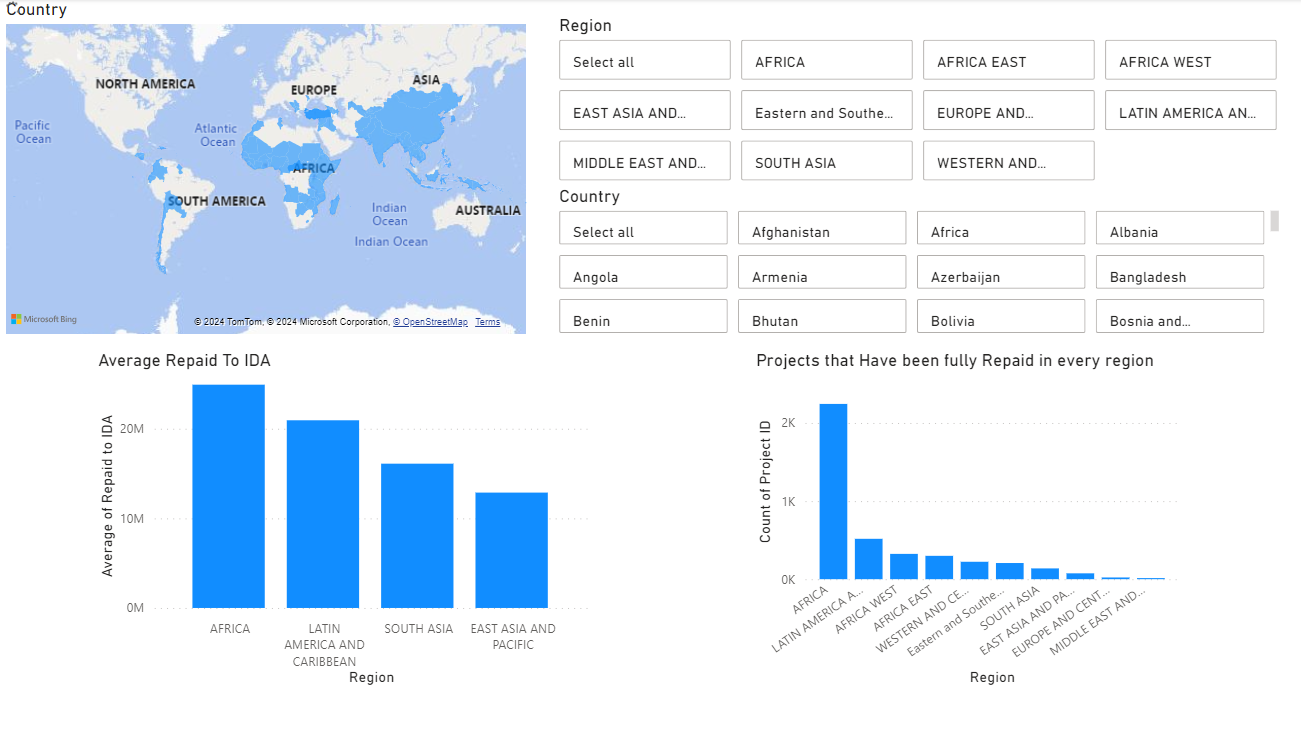

What the dashboard file says about the page in this screenshot:
{"tool":"powerbi","page":{"name":"Regional Information","canvas":[1280,720],"ordinal":1},"visuals":[{"type":"filledMap","fields":{"Category":["cleaned_dataset.Country"]},"box":[10.1,0,515.7,330.9],"z":0},{"type":"advancedSlicerVisual","fields":{"Values":["cleaned_dataset.Country"]},"box":[548,182,710,148],"z":1000},{"type":"advancedSlicerVisual","fields":{"Values":["cleaned_dataset.Region"]},"box":[548,16,710,166],"z":2000},{"type":"columnChart","title":"Average Repaid To IDA","fields":{"Category":["cleaned_dataset.Region"],"Y":["Avg(cleaned_dataset.Repaid to IDA)"]},"box":[99.1,341,487.1,330.9],"z":3000},{"type":"columnChart","title":"Projects that Have been fully Repaid in every region ","fields":{"Y":["CountNonNull(cleaned_dataset.Project ID)"],"Category":["cleaned_dataset.Region"]},"box":[739.1,341,421.6,330.9],"z":3001}]}

Visuals, with their boxes in screenshot pixels (x1, y1, x2, y2), scaled from the page's 1280x720 canvas onto the 1301x735 screenshot:
filledMap - cleaned_dataset.Country: (10, 0, 534, 338)
advancedSlicerVisual - cleaned_dataset.Country: (557, 186, 1279, 337)
advancedSlicerVisual - cleaned_dataset.Region: (557, 16, 1279, 186)
"Average Repaid To IDA" columnChart: (101, 348, 596, 686)
"Projects that Have been fully Repaid in every region " columnChart: (751, 348, 1180, 686)
